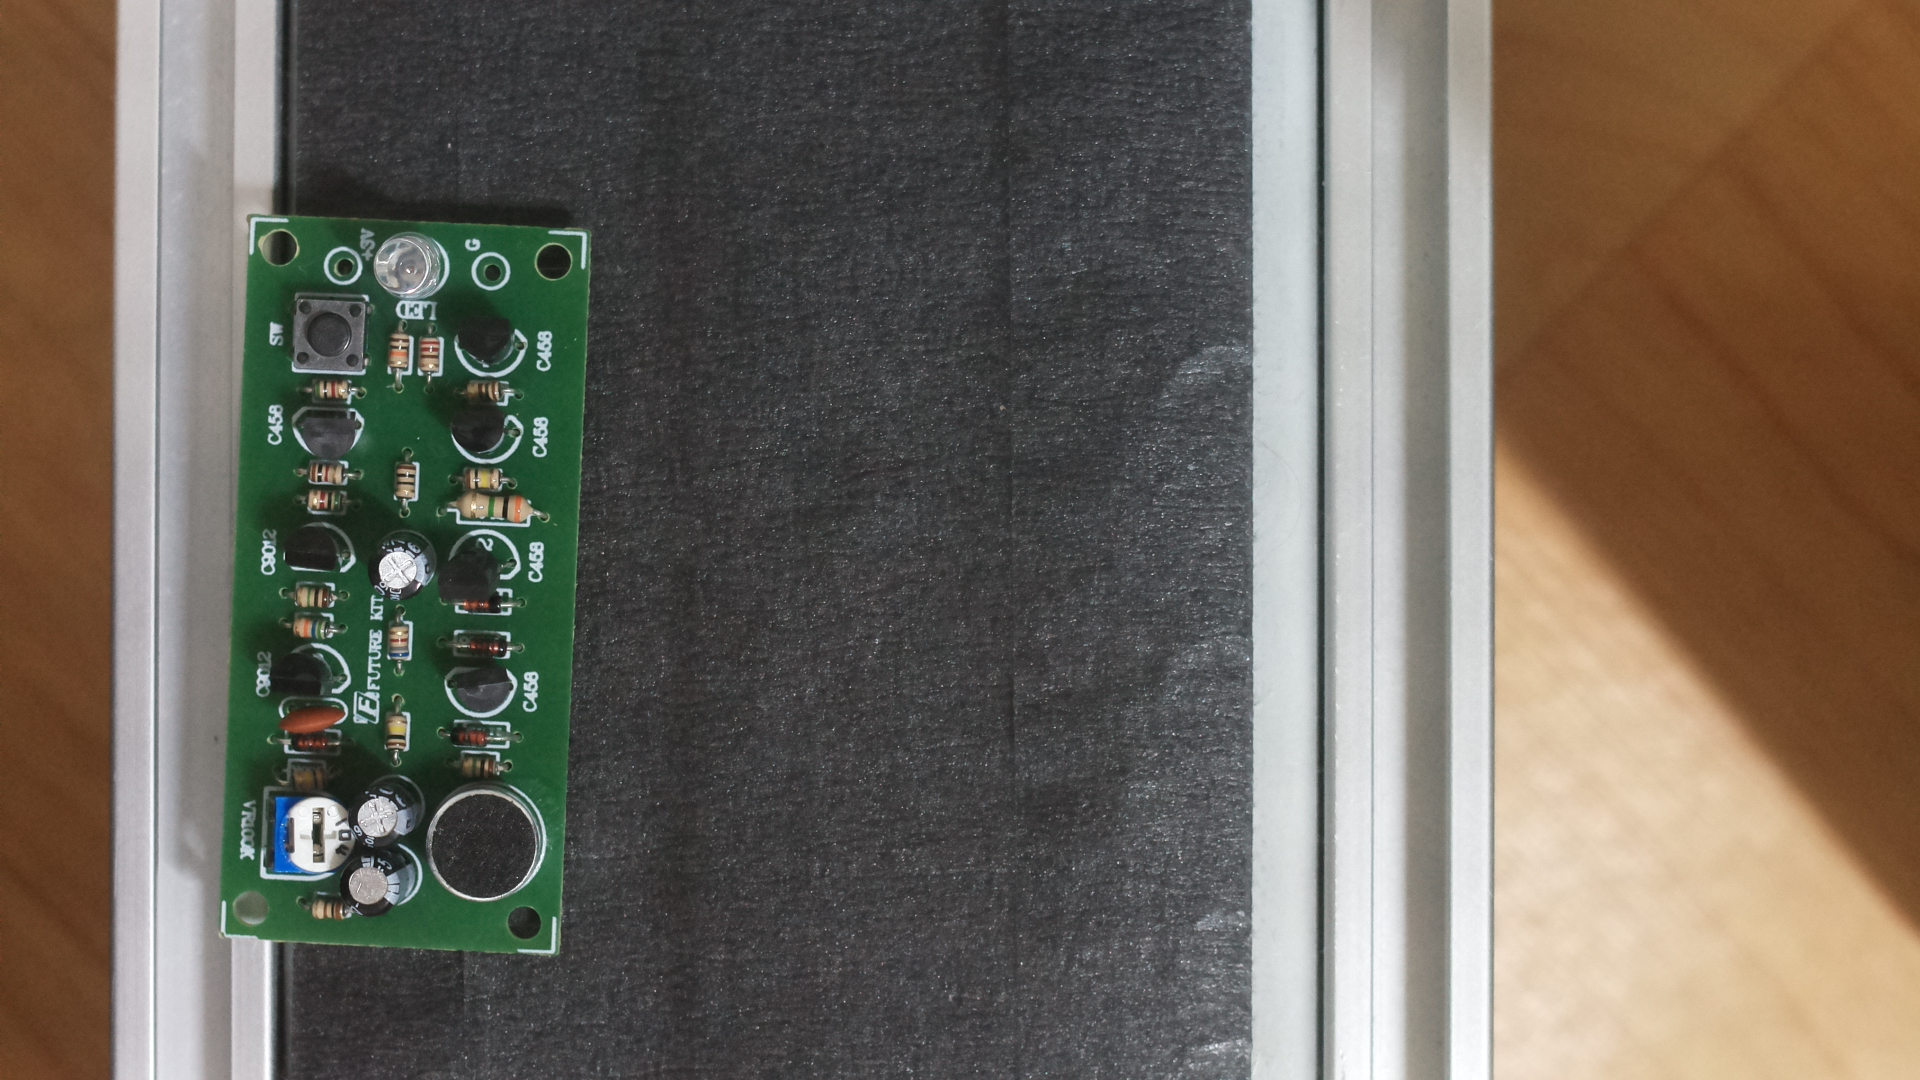A_Normal: (227, 198, 597, 973)
